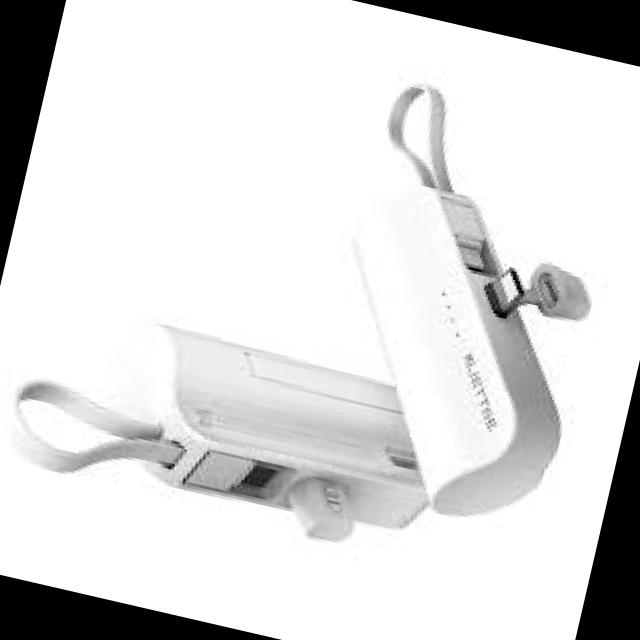portable-charger: (292, 165, 619, 542), (96, 312, 462, 564)
